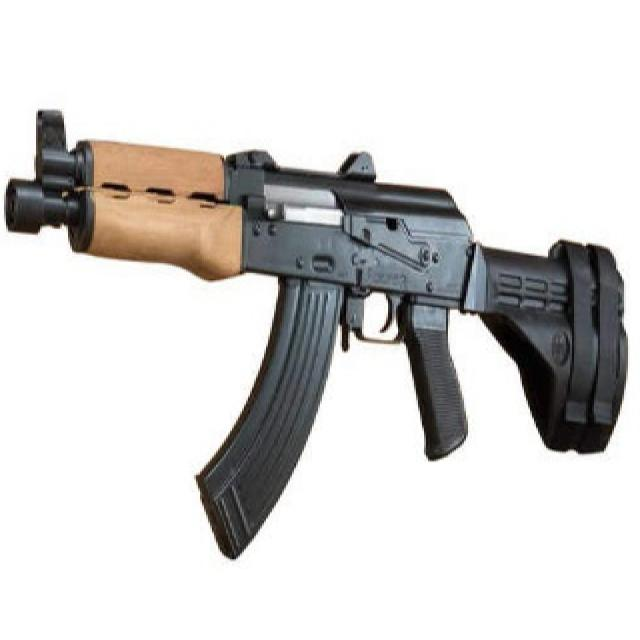rifle: (3, 104, 631, 560)
